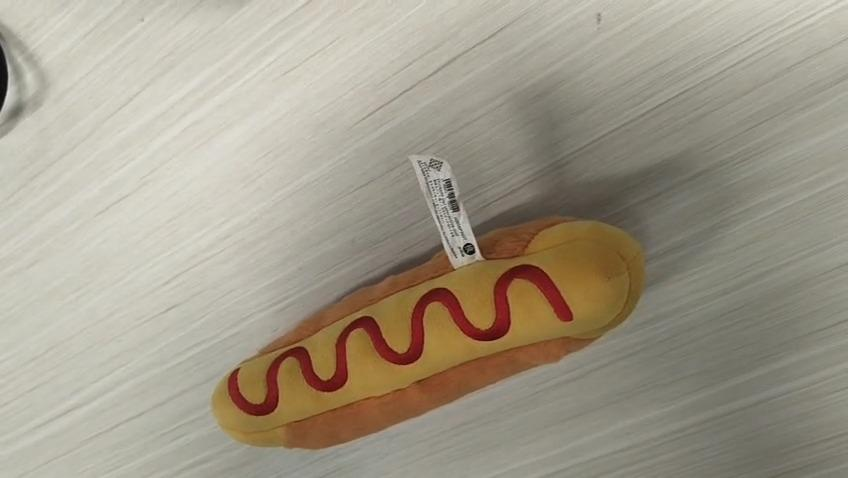hotdog: (210, 213, 646, 450)
